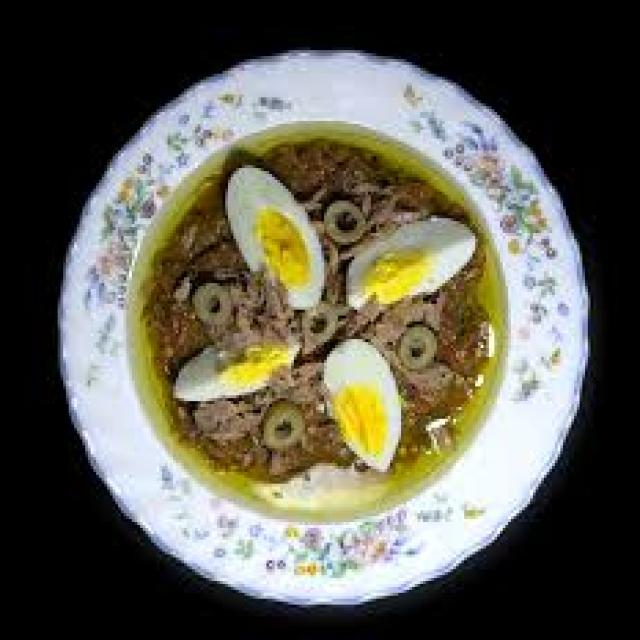Salade mechweya: (40, 56, 599, 598)
